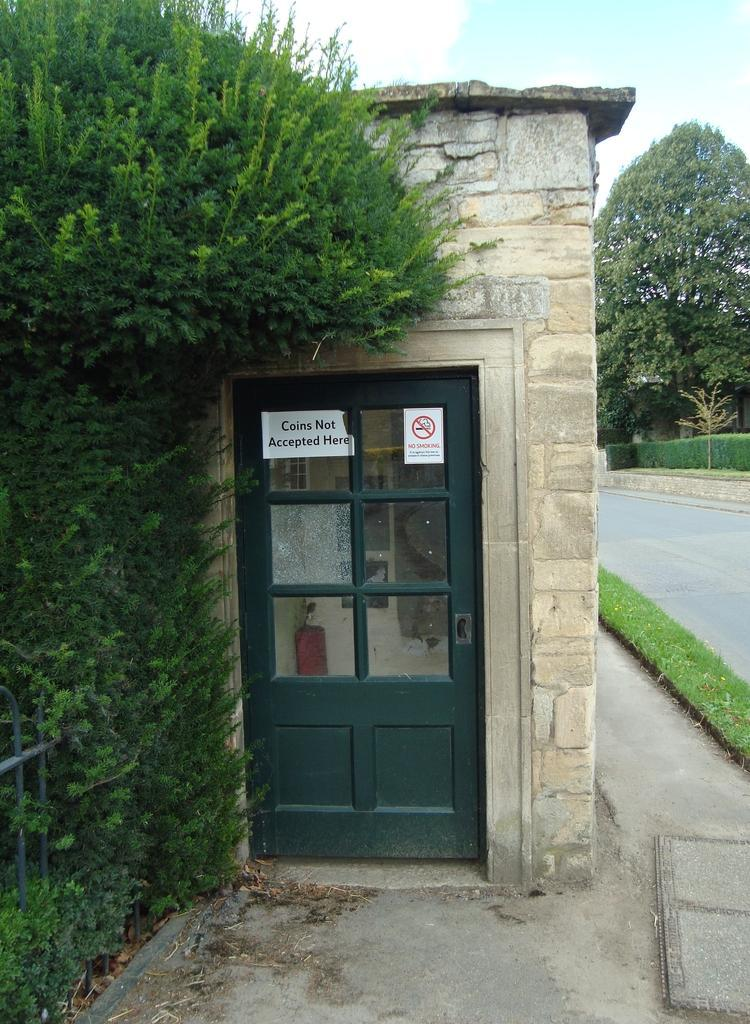door: (237, 387, 482, 875)
handle: (454, 604, 474, 646)
